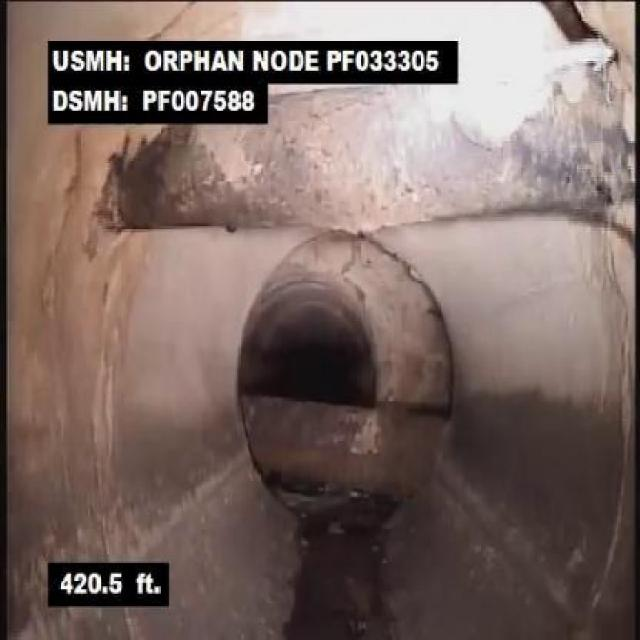Utility intrusion: (89, 123, 634, 243)
